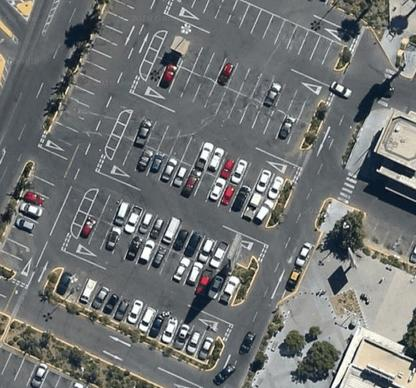parkingspot: (51, 265, 221, 365), (120, 107, 289, 204), (109, 134, 278, 231), (143, 55, 312, 151), (75, 213, 243, 309), (45, 0, 141, 149), (175, 0, 347, 73), (179, 40, 323, 127), (87, 187, 232, 273), (0, 173, 57, 275), (0, 339, 101, 387), (279, 225, 323, 303), (361, 210, 416, 265), (155, 29, 178, 63)
